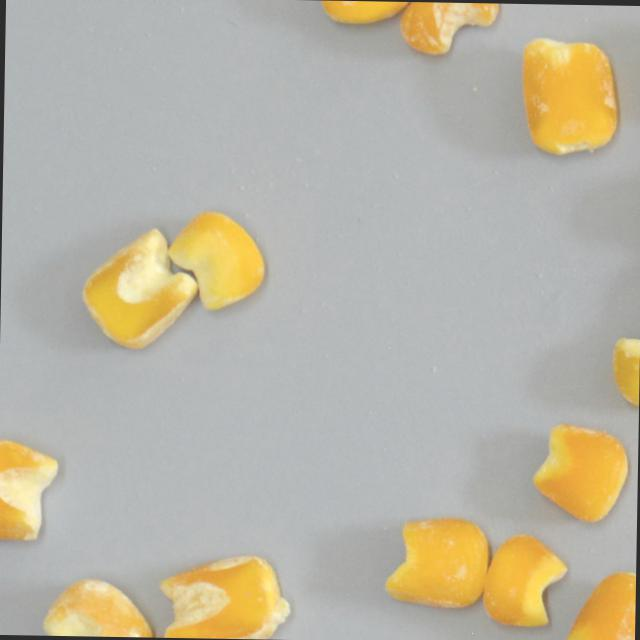dañado: (77, 223, 198, 348), (515, 31, 622, 161), (154, 549, 299, 640), (526, 415, 633, 526), (480, 530, 569, 632), (0, 431, 62, 549), (396, 1, 500, 60), (558, 563, 636, 640), (605, 311, 640, 413), (309, 0, 413, 29)
pelicula: (381, 513, 496, 618), (164, 207, 265, 313), (39, 573, 156, 637)
